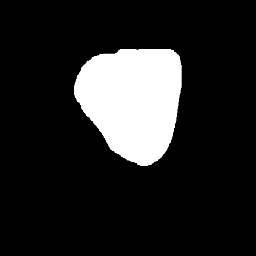mass: (78, 48, 180, 156)
